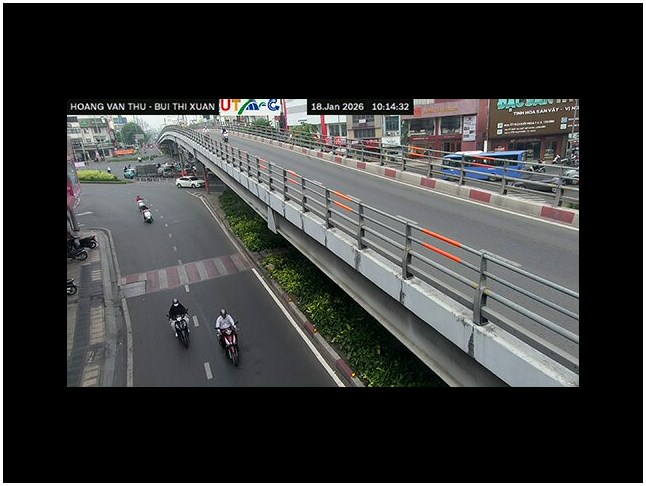car: (176, 176, 203, 189)
motorbike: (217, 330, 241, 367), (140, 208, 154, 224)
